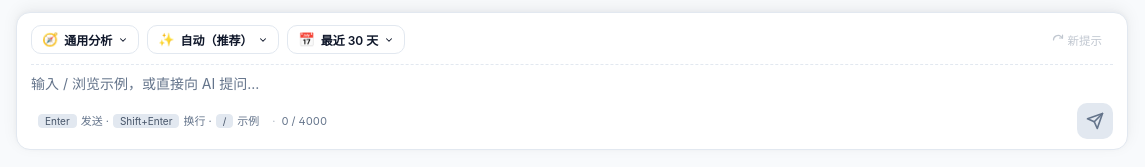
Test case: InputBar — keyboard behavior › toggles send shortcut on click
Find the shortcut toggle button by class
Click the button with class "input-hint-button": {"x": 149, "y": 121} [31,111,266,131]
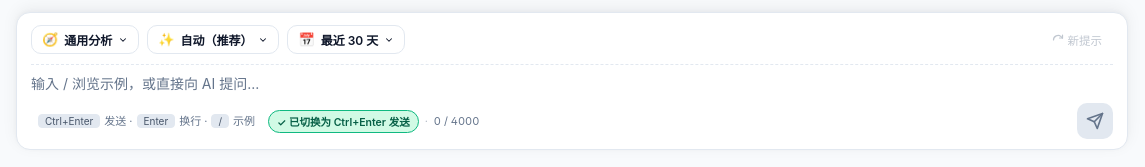
Now the text "✓ 已切换为 Ctrl+Enter 发送" is shown, box [268,110,419,133]
